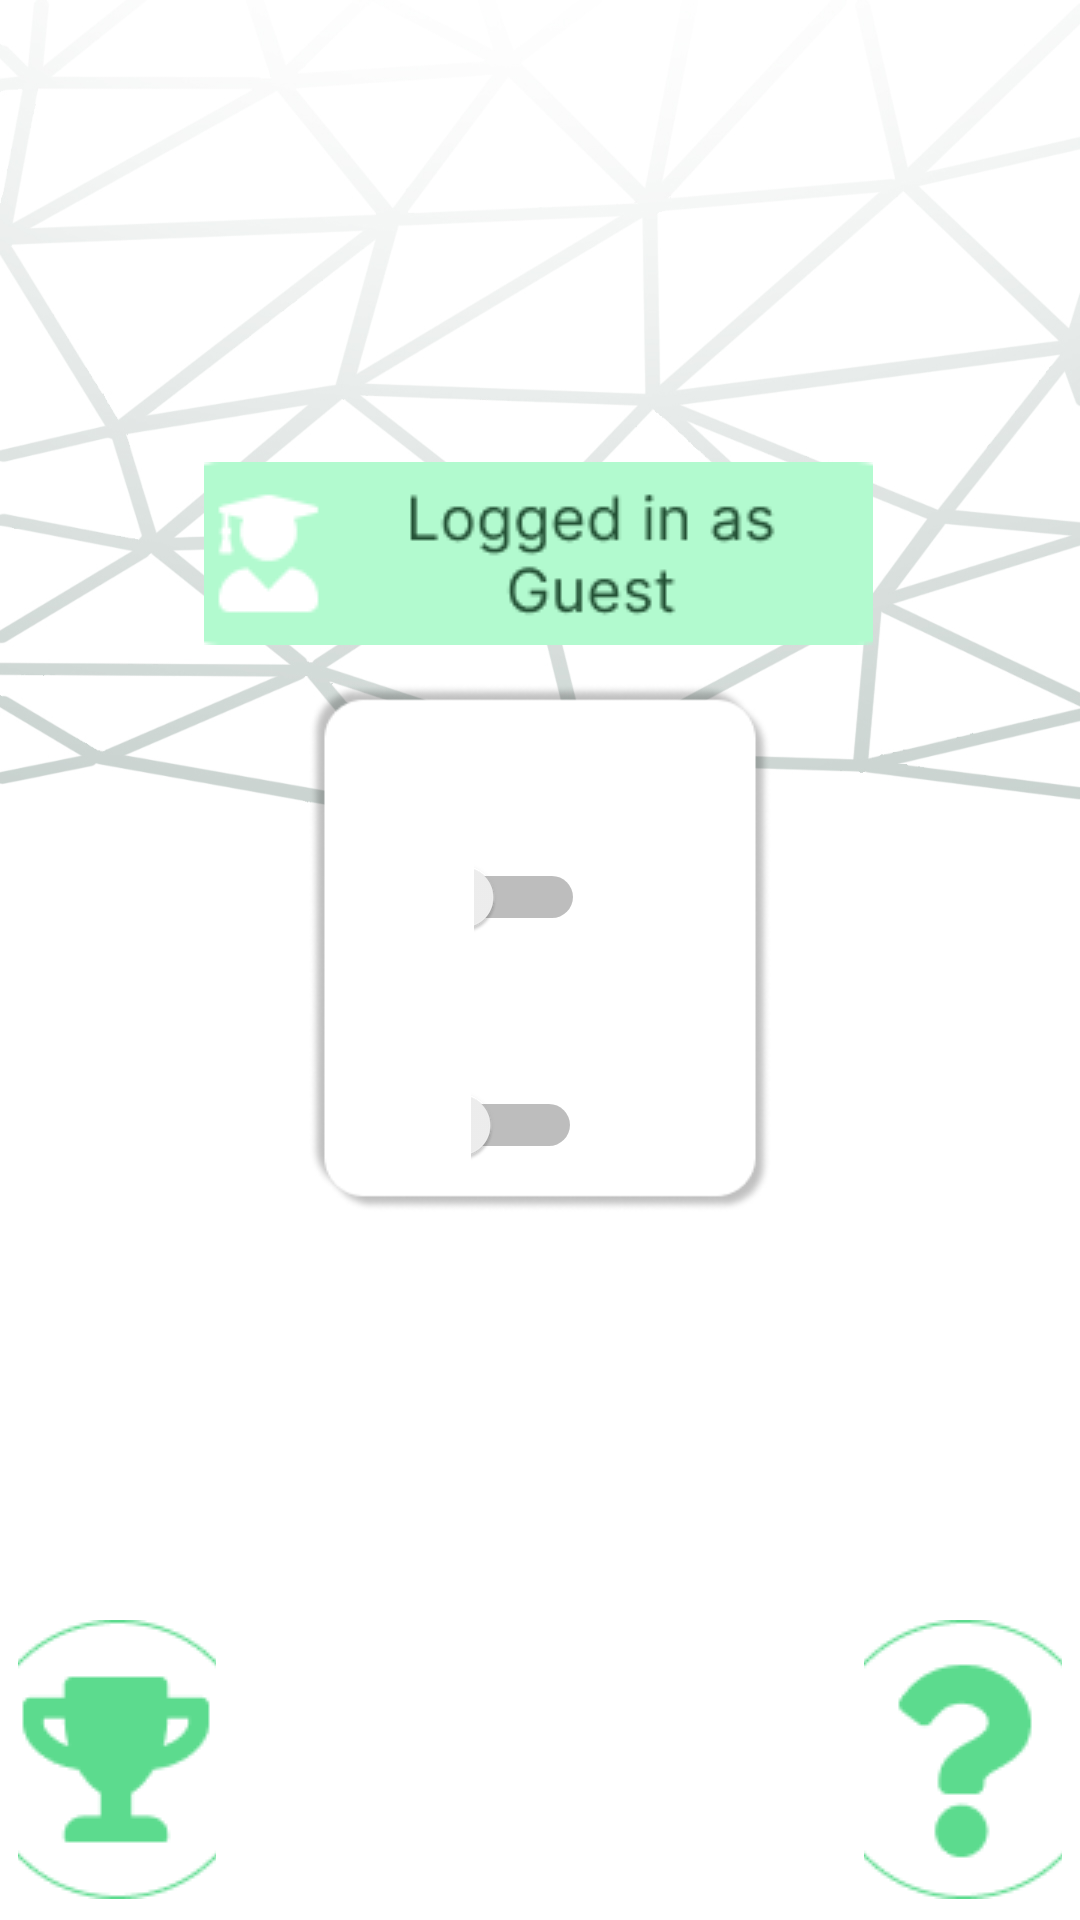

Screen size 1080 × 1920. Icon name, then its center in pixels as (x=x, y=y):
help: (x=963, y=1759)
highscores: (x=117, y=1759)
